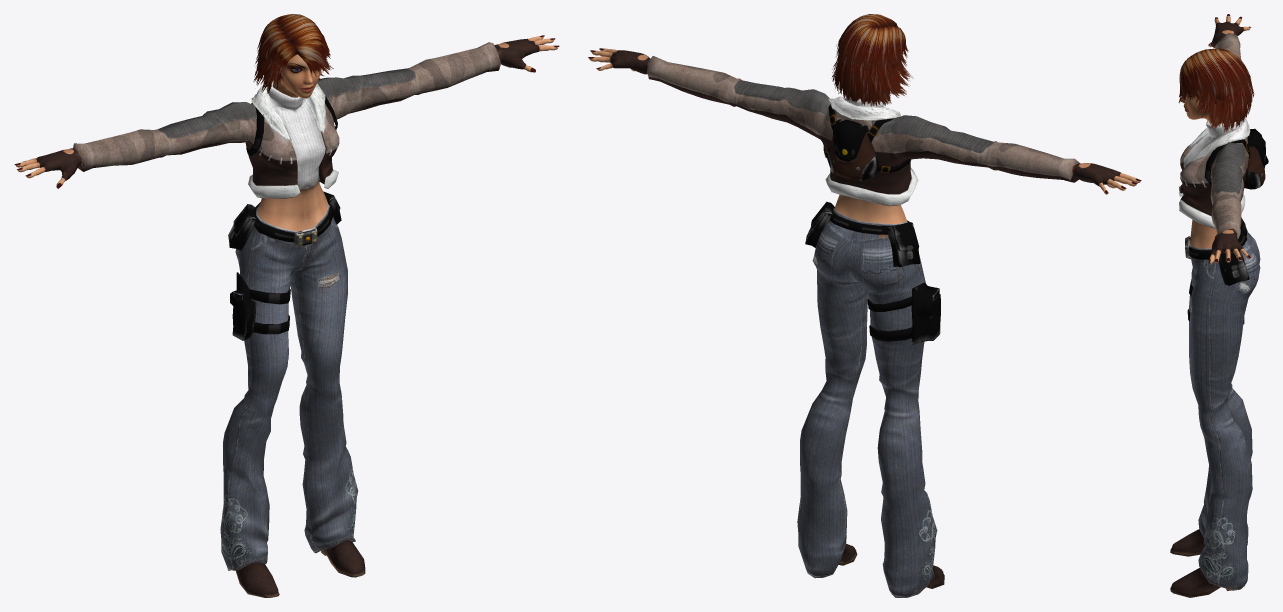
Rendered from Joanna_Dark.obj.
The picture shows the model from 3 angles, left to right: view 1: azimuth 30°, elevation 25°; view 2: azimuth 150°, elevation 25°; view 3: azimuth 270°, elevation 25°; orthographic projection. The views are drawn at different scales.
Size of the model in its own units: 3.39 by 3.33 by 0.572.
Materials: 7 (7 with a texture image).
